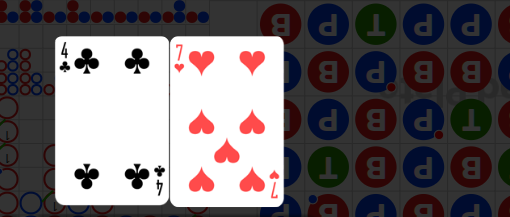4C: (59, 42, 73, 75)
7H: (174, 44, 187, 75)
